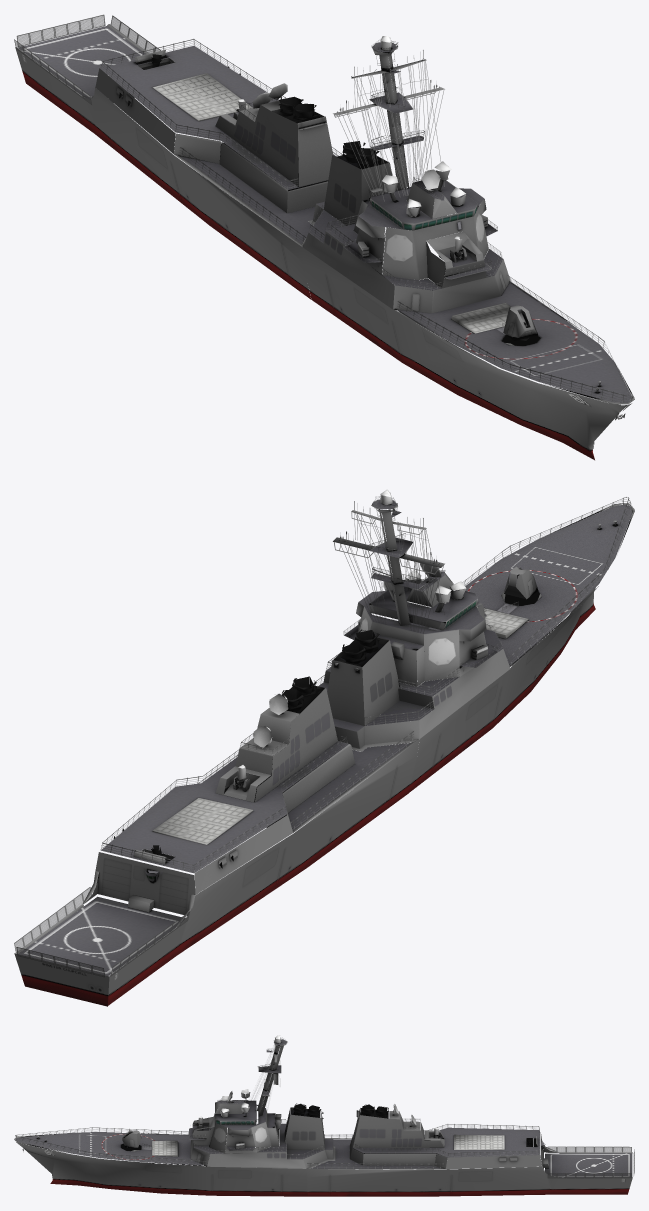
The picture shows the model from 3 angles, top to bottom: view 1: azimuth 30°, elevation 25°; view 2: azimuth 150°, elevation 25°; view 3: azimuth 270°, elevation 25°; orthographic projection. The views are drawn at different scales.
Parts seen in each view (by area): view 1: Ship; view 2: Ship; view 3: Ship.
Boxes of the visible parts, x1=… form: Ship: x1=14, y1=14, x2=634, y2=460; Ship: x1=14, y1=489, x2=634, y2=1006; Ship: x1=14, y1=1035, x2=634, y2=1196.
Size of the model in its own units: 21.06 by 41.17 by 156.
5 materials, 5 textured.
